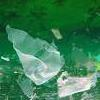Trash: (2, 25, 69, 87)
